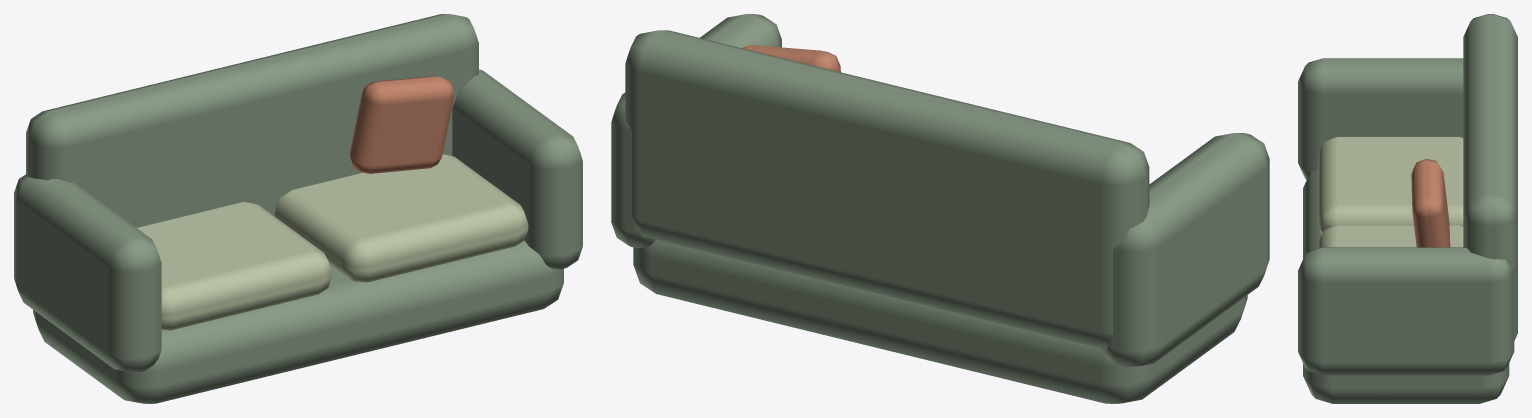
File: sofa.glb
3 renders of one model, left to right at view 1: azimuth 30°, elevation 25°; view 2: azimuth 150°, elevation 25°; view 3: azimuth 270°, elevation 25°, orthographic. The views are drawn at different scales.
Parts seen in each view (by area): view 1: Lounge_sage, Lounge_sageLight, Lounge_terra; view 2: Lounge_sage, Lounge_terra; view 3: Lounge_sage, Lounge_sageLight, Lounge_terra.
Boxes of the visible parts, x1,y1,x2,y2 form: Lounge_sage: (14,14,582,403); Lounge_sageLight: (137,154,528,330); Lounge_terra: (350,76,453,173); Lounge_sage: (611,14,1269,403); Lounge_terra: (742,45,840,72); Lounge_sage: (1298,14,1517,403); Lounge_sageLight: (1318,136,1463,248); Lounge_terra: (1411,159,1450,247).
Bounding box in the file's own units: 2.02 × 0.94 × 0.885.
